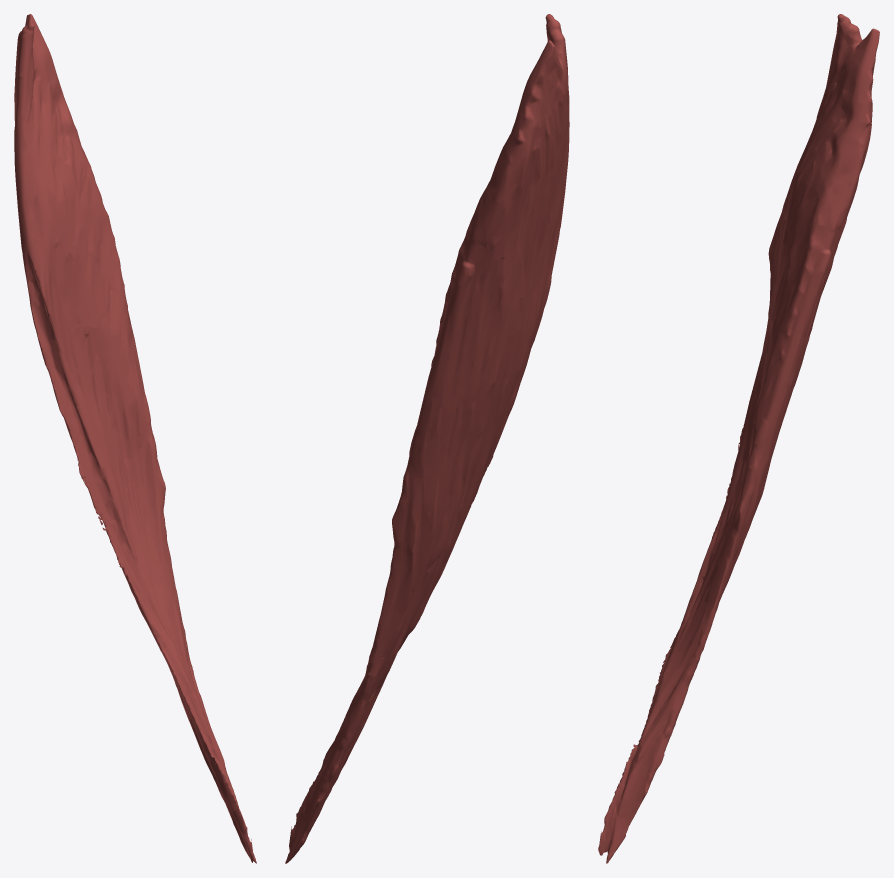
File: FMA38620.glb
3 renders of one model, left to right at view 1: azimuth 30°, elevation 25°; view 2: azimuth 210°, elevation 25°; view 3: azimuth 270°, elevation 25°, orthographic. The views are drawn at different scales.
Visible parts, largest first — view 1: FMA38620; view 2: FMA38620; view 3: FMA38620.
Boxes of the visible parts, x1,y1,x2,y2 form: FMA38620: (14, 14, 256, 863); FMA38620: (285, 14, 569, 863); FMA38620: (598, 14, 879, 863).
Bounding box in the file's own units: 0.04 × 0.2128 × 0.0683.
